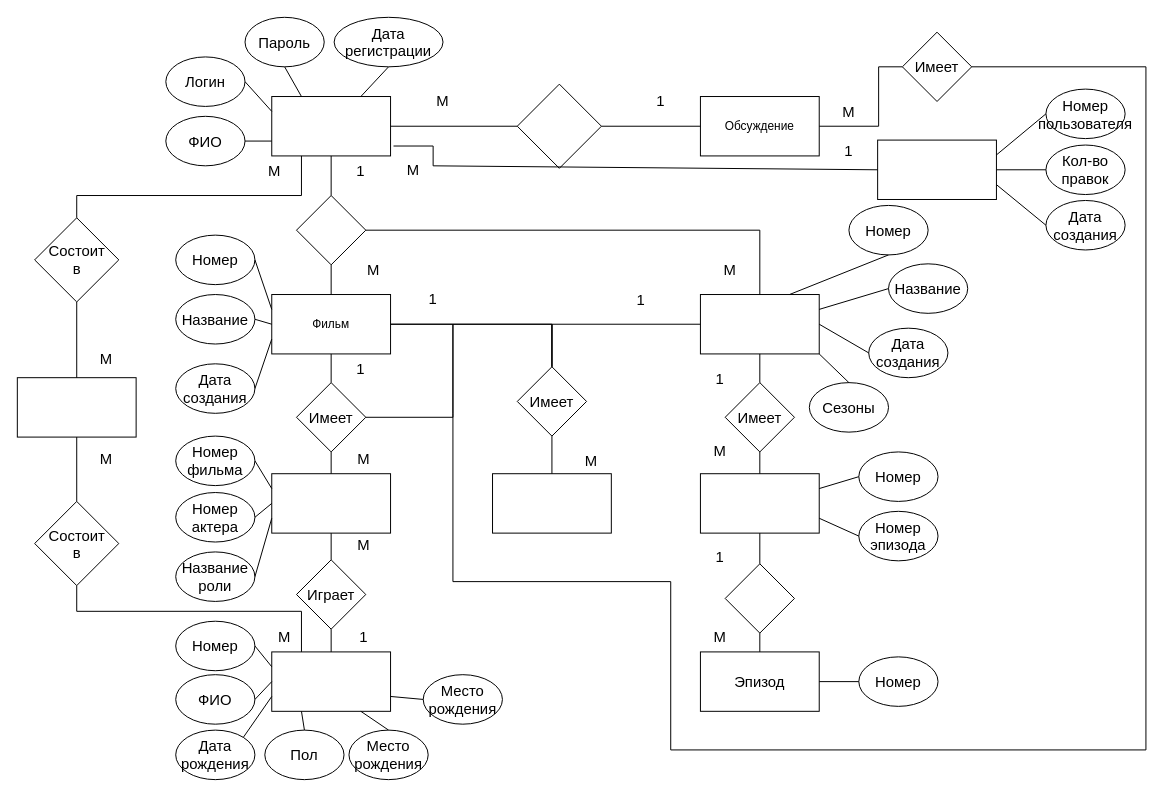
The diagram is 1164 pixels wide and 797 high, and some of its shapes have lost their labels. Each missing label, with the centre of its shape:
"Актер" goes at [331,681].
"Доска почета" goes at [936,169].
"Есть" goes at [759,598].
"Жанр" goes at [551,503].
"Пользователь" goes at [331,126].
"Роль" goes at [331,503].
"Сезон" goes at [759,503].
"Сериал" goes at [759,324].
"Смотрит" goes at [331,230].
"Участвует в" goes at [558,125].
"Фандом" goes at [76,407].
